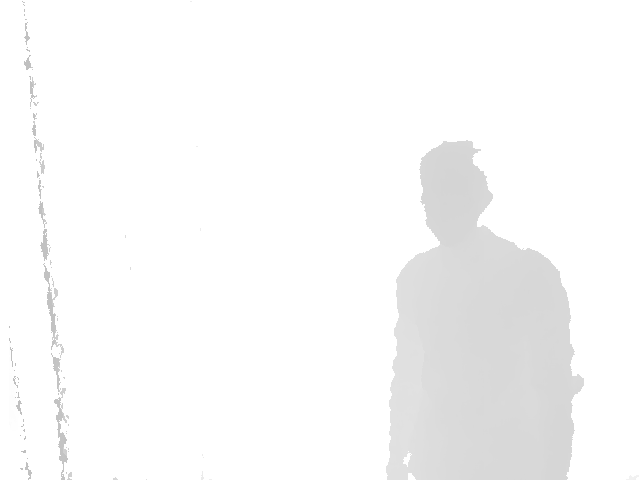head: (419, 140, 493, 233)
person: (384, 141, 587, 480)
